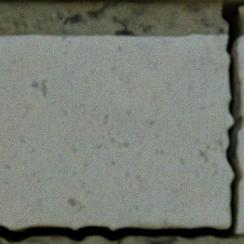brick: (0, 0, 225, 3)
broken_brick: (0, 36, 232, 229), (235, 37, 243, 233)
crack: (0, 0, 243, 243)
